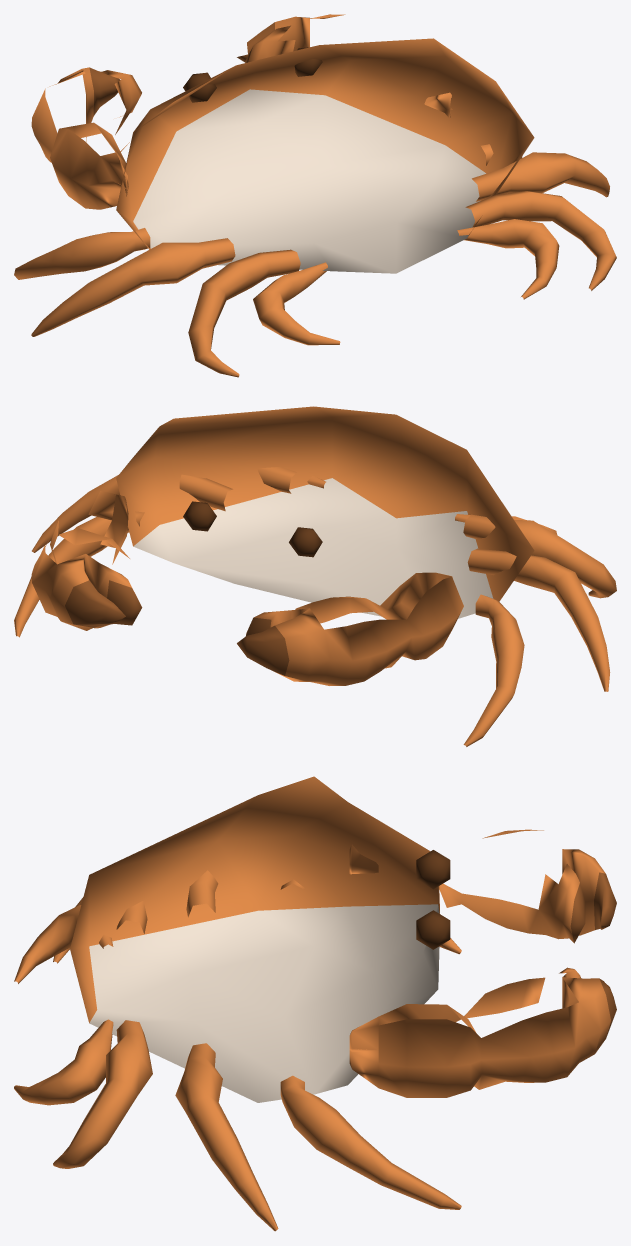
File: Crab.glb
3 renders of one model, top to bottom at view 1: azimuth 30°, elevation 25°; view 2: azimuth 150°, elevation 25°; view 3: azimuth 270°, elevation 25°, orthographic. The views are drawn at different scales.
Parts seen in each view (by area): view 1: Crab.1; view 2: Crab.1; view 3: Crab.1.
Part boxes in pixels (x1,y1,x2,y2): Crab.1: [14, 14, 616, 377]; Crab.1: [14, 406, 616, 746]; Crab.1: [14, 776, 616, 1231].
Bounding box in the file's own units: 780 × 273 × 602.
